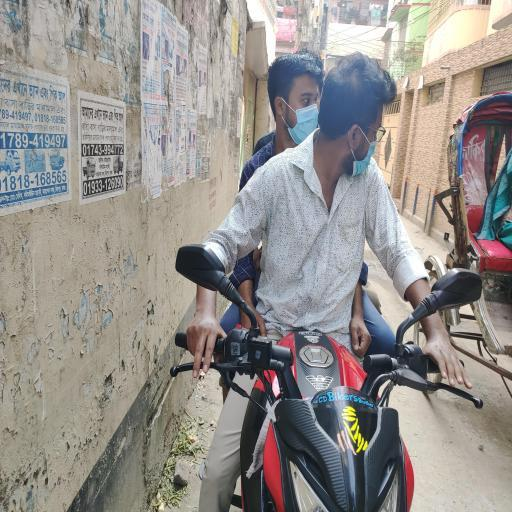no helmet: (317, 51, 402, 225)
triple riding: (185, 47, 446, 512)
